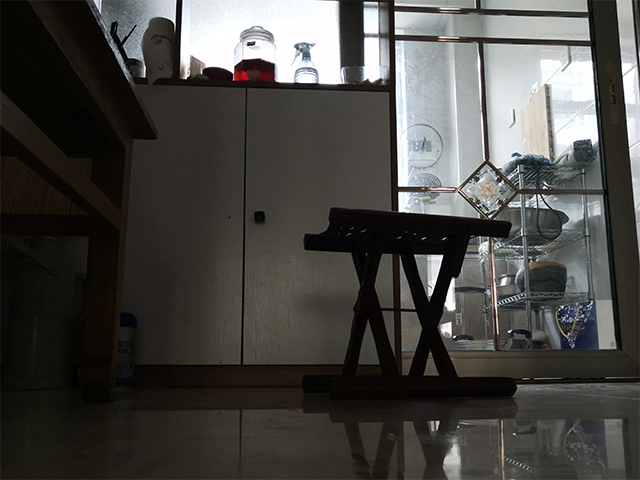cabinet: (141, 73, 395, 389)
stool: (301, 205, 519, 402)
table: (2, 1, 160, 405)
